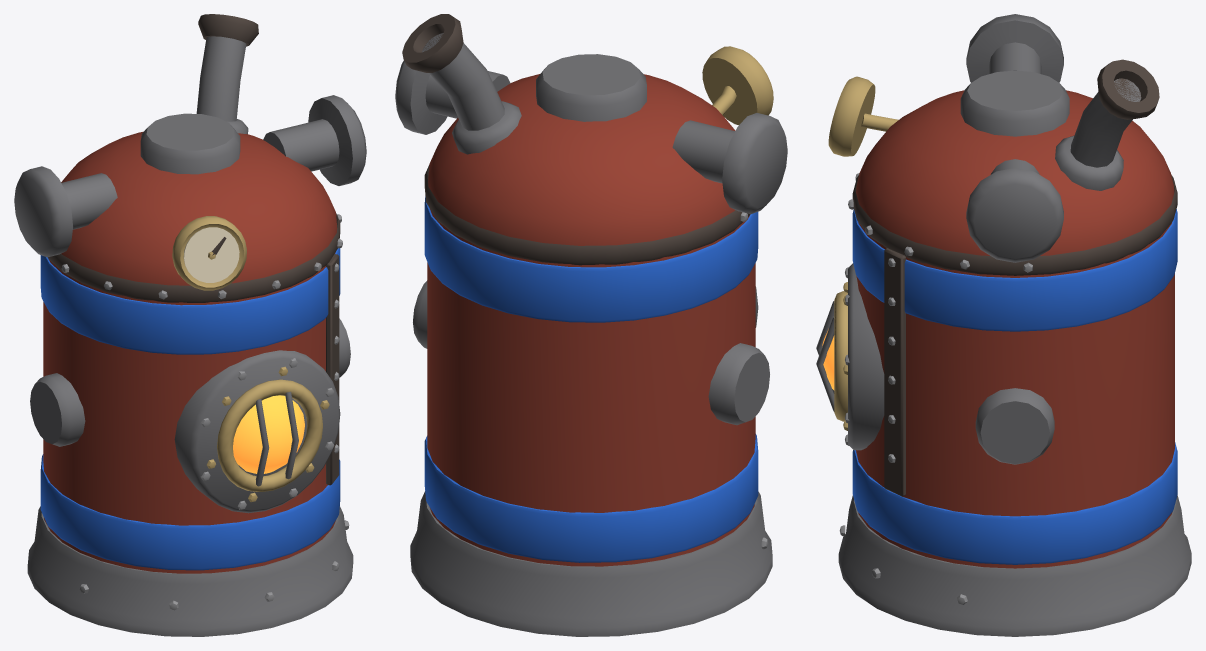
Rendered from Kit_Core_Boiler.glb.
The picture shows the model from 3 angles, left to right: view 1: azimuth 30°, elevation 25°; view 2: azimuth 150°, elevation 25°; view 3: azimuth 270°, elevation 25°; orthographic projection. The views are drawn at different scales.
Visible parts, largest first — view 1: Kit_Core_Boiler; view 2: Kit_Core_Boiler; view 3: Kit_Core_Boiler.
Part boxes in pixels (x1=…): Kit_Core_Boiler: x1=14, y1=14, x2=366, y2=636; Kit_Core_Boiler: x1=395, y1=14, x2=787, y2=636; Kit_Core_Boiler: x1=816, y1=14, x2=1191, y2=636.
Size of the model in its own units: 0.418 by 0.6511 by 0.3999.
